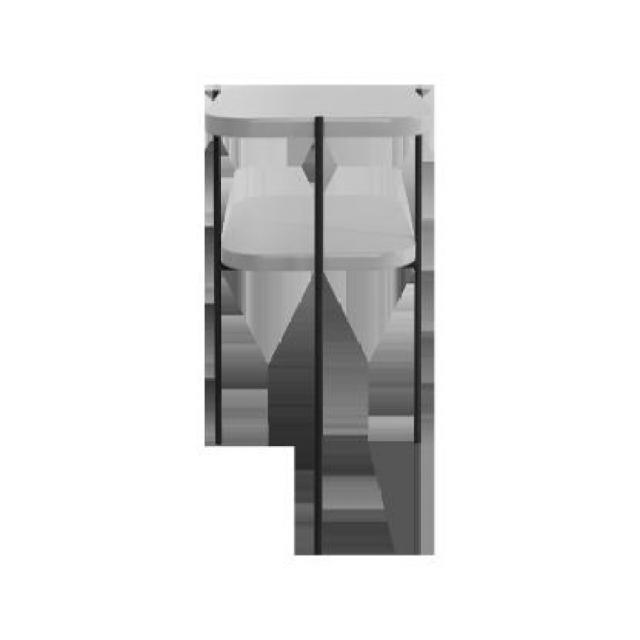table: (204, 78, 431, 550)
